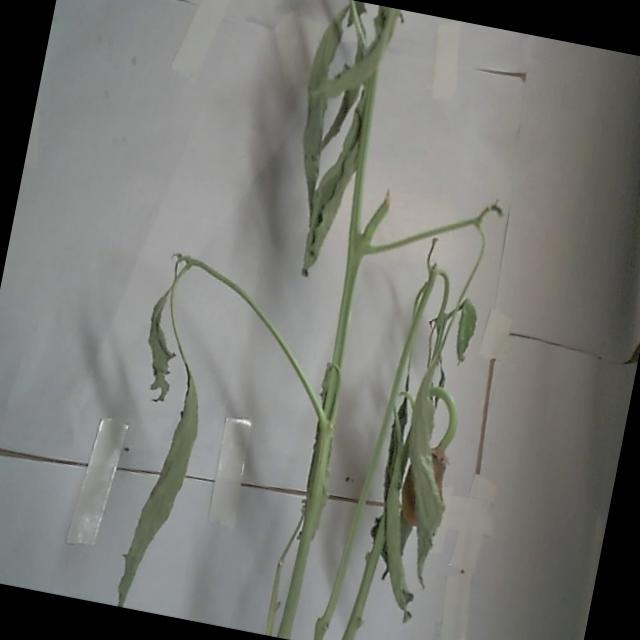Leaf: (110, 336, 213, 615), (357, 410, 450, 620), (298, 92, 371, 276), (134, 266, 192, 402), (301, 0, 354, 122)
